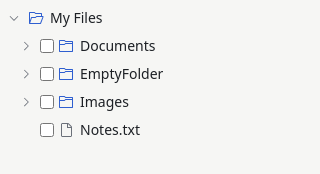
Test case: FileTree › an expanded empty folder shows the "Empty" text
What coordinates should you click on to do the following:
click the button named "Expand EmptyFolder"
I would click on:
 (26, 74)
Its box is [16,64,36,84].
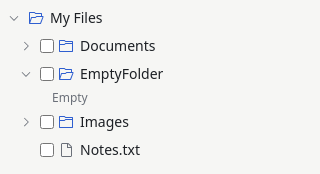
Result: the text "Empty" is shown at [52,89,88,106]
